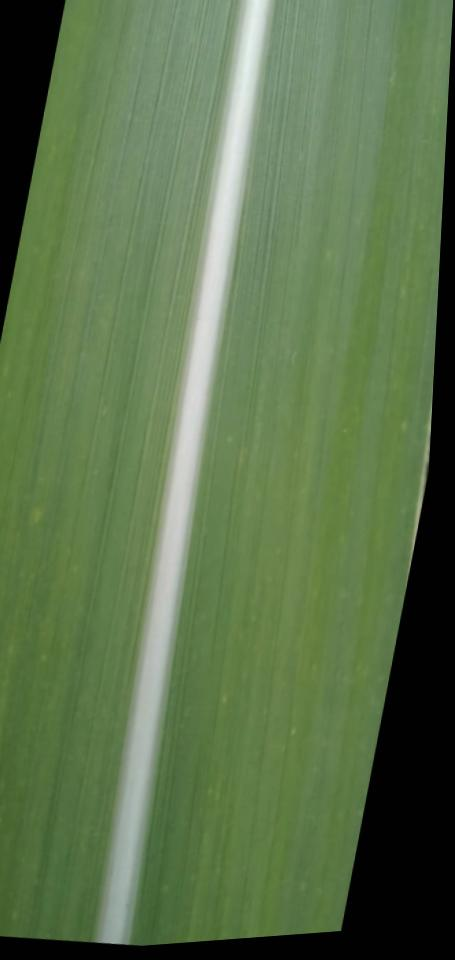Healthy: (0, 0, 453, 945)
